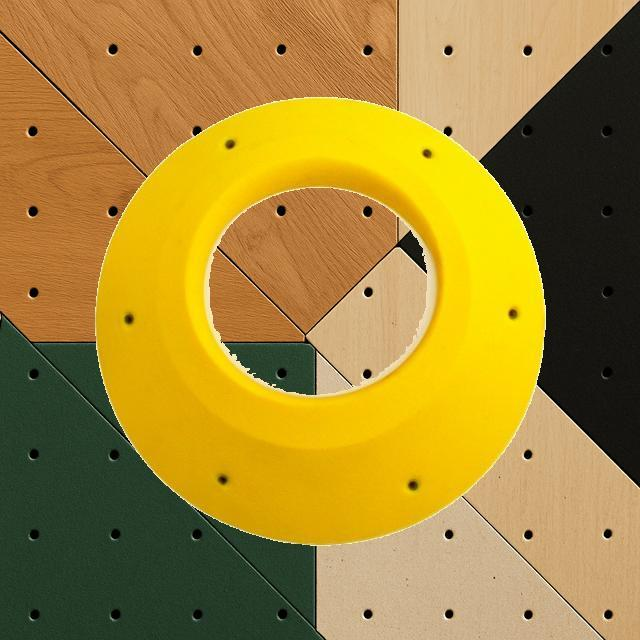Jug: (94, 96, 546, 544)
